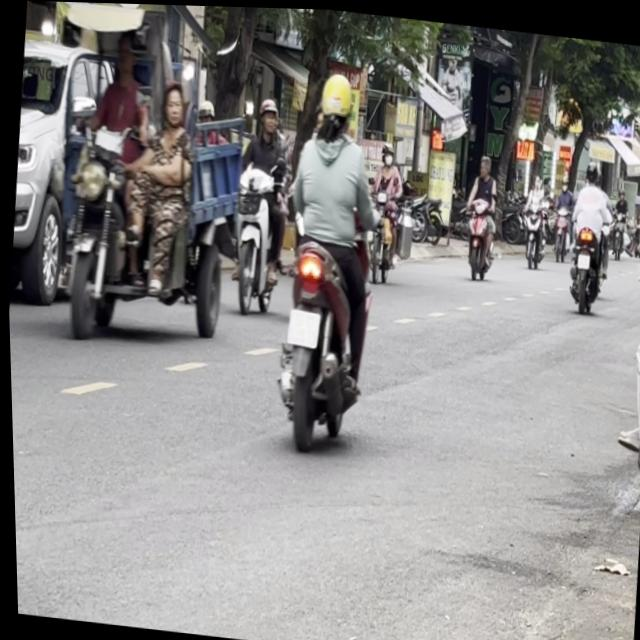helmet: (312, 68, 356, 138), (255, 93, 280, 137), (582, 156, 596, 180)
licenseplate: (260, 61, 394, 453), (220, 90, 299, 317)
nohelmet: (283, 305, 319, 347)
